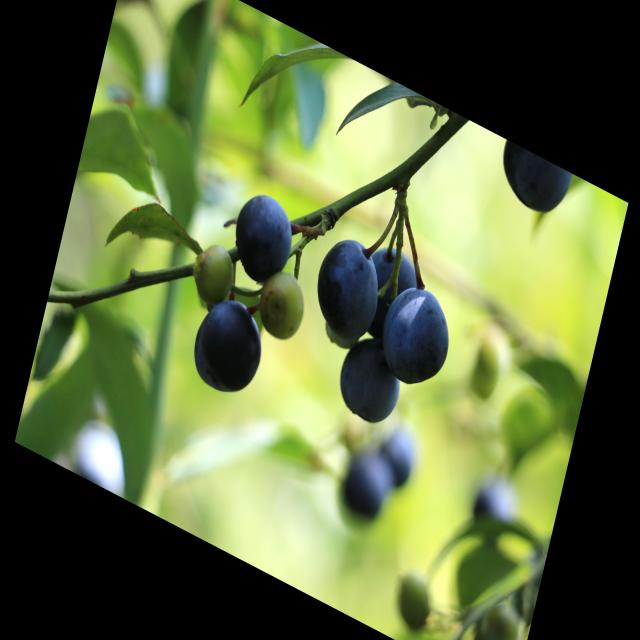blueberry: (184, 279, 274, 412), (372, 274, 459, 399), (307, 225, 389, 351), (228, 183, 300, 297), (354, 238, 422, 352), (491, 138, 574, 226), (335, 336, 407, 434)
blueberry-unripe: (249, 258, 314, 352), (186, 234, 240, 317)
